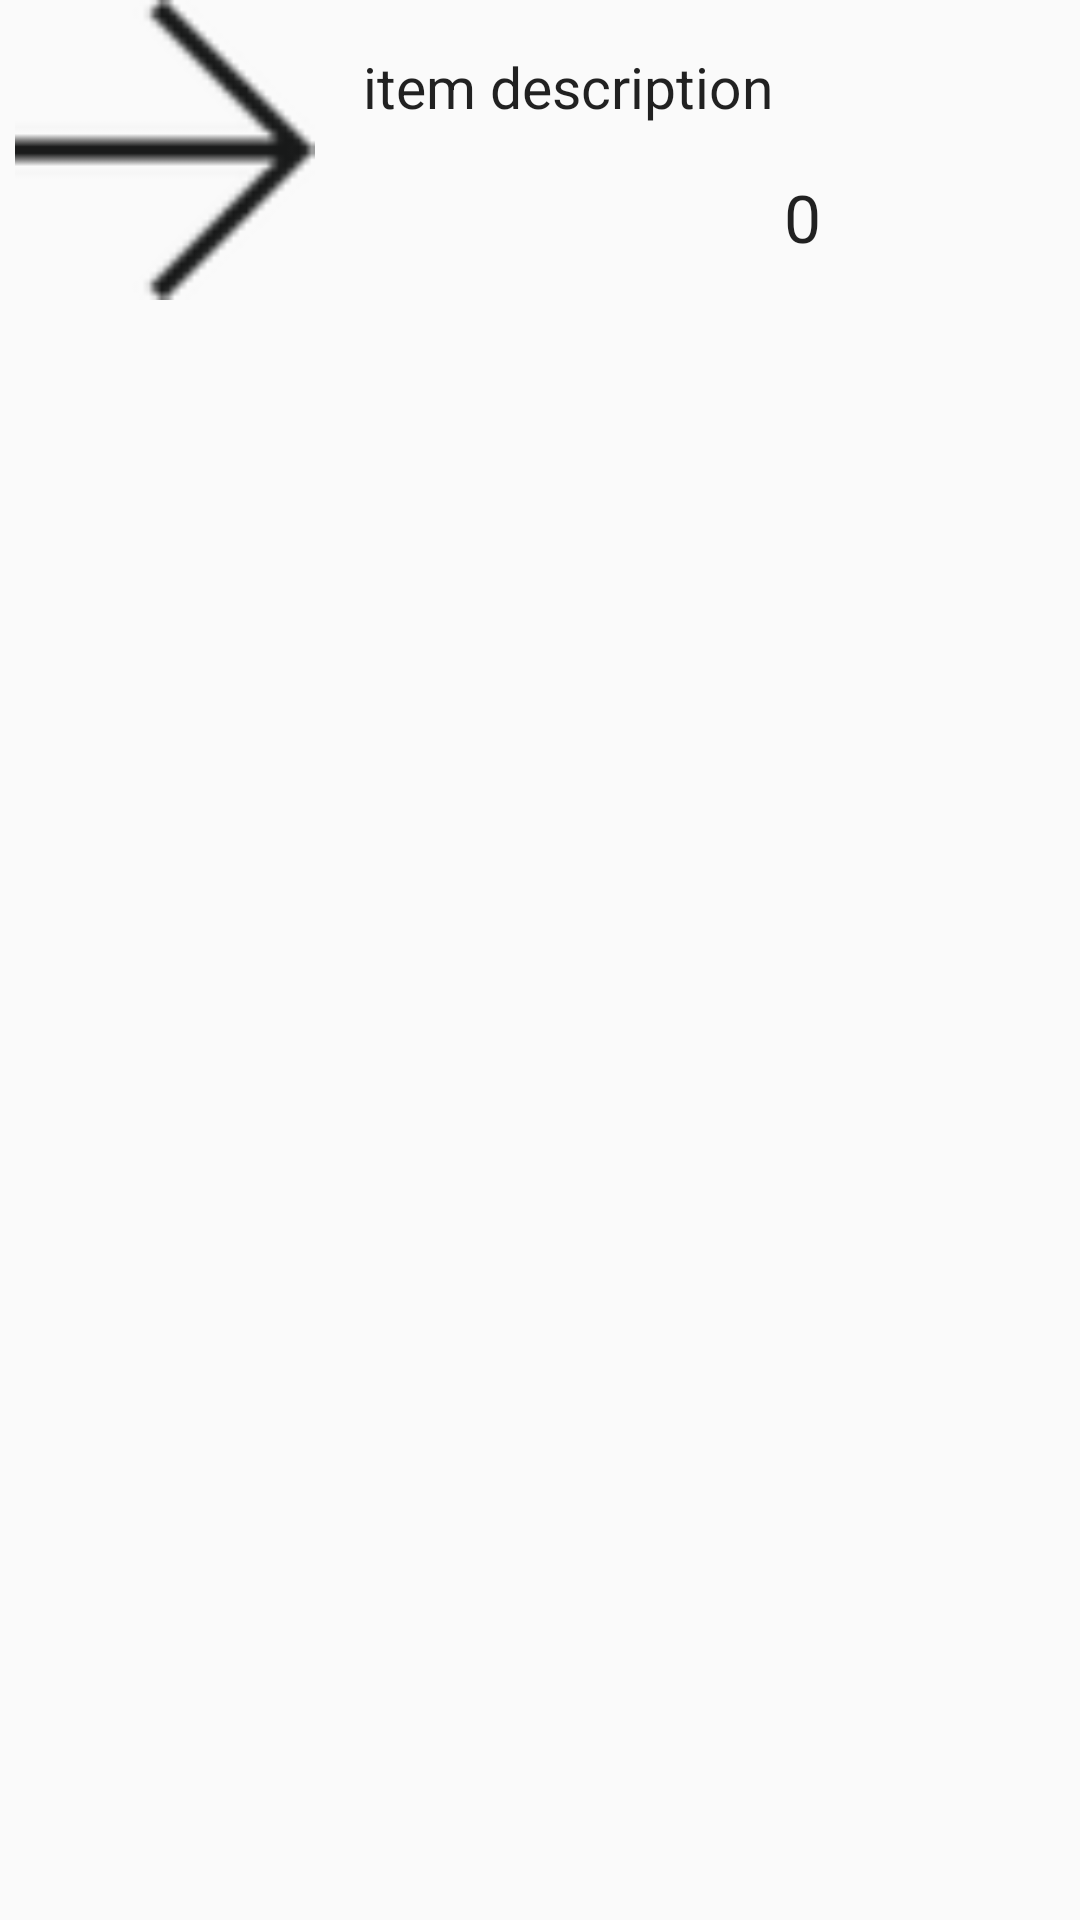

Where to tap for icons on this 1080px x 1920px app screen, as (x,y):
forward: (165,150)
